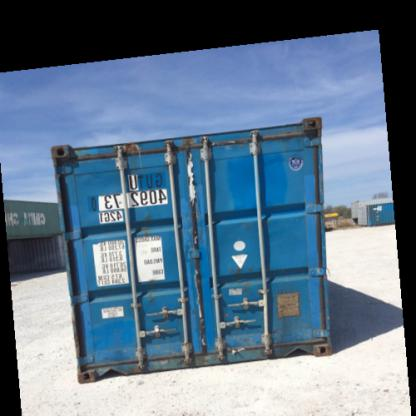Damage: (184, 232, 210, 320), (183, 147, 202, 213), (110, 142, 145, 173), (214, 332, 247, 361), (174, 338, 202, 370), (140, 348, 187, 366)
